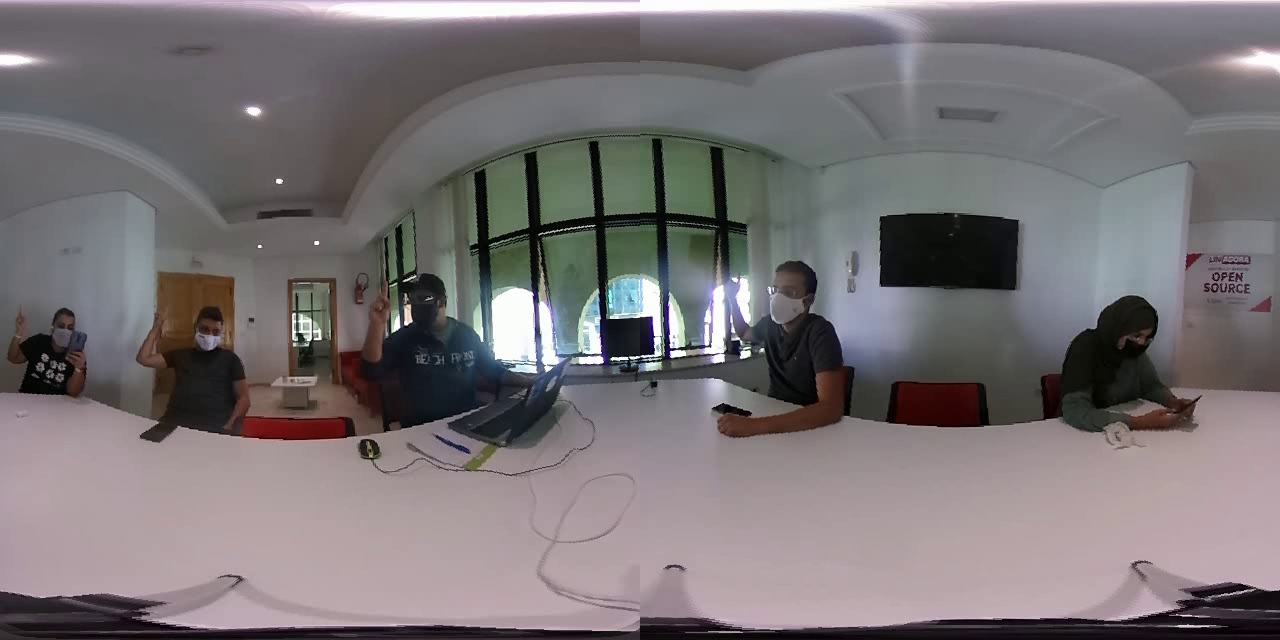person: (696, 238, 859, 439), (353, 257, 508, 442), (1039, 272, 1197, 445), (133, 287, 257, 439), (1, 290, 99, 405)
speaking: (355, 258, 399, 386), (712, 257, 755, 366), (132, 283, 172, 378), (1, 292, 37, 374)
